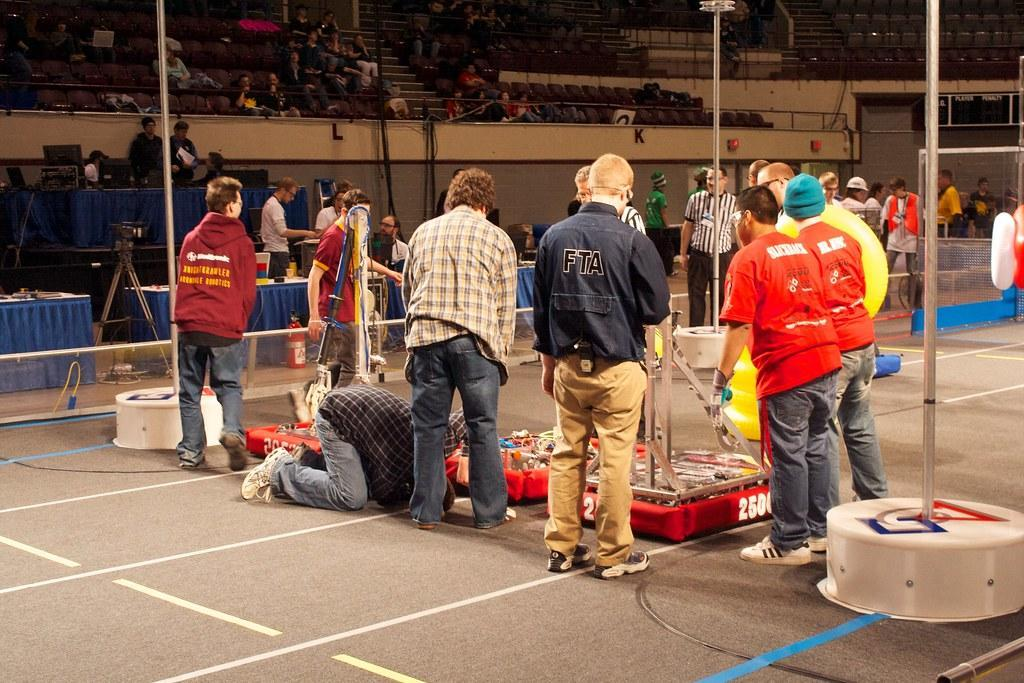robot: (553, 295, 803, 545), (234, 200, 432, 482), (410, 336, 603, 505)
